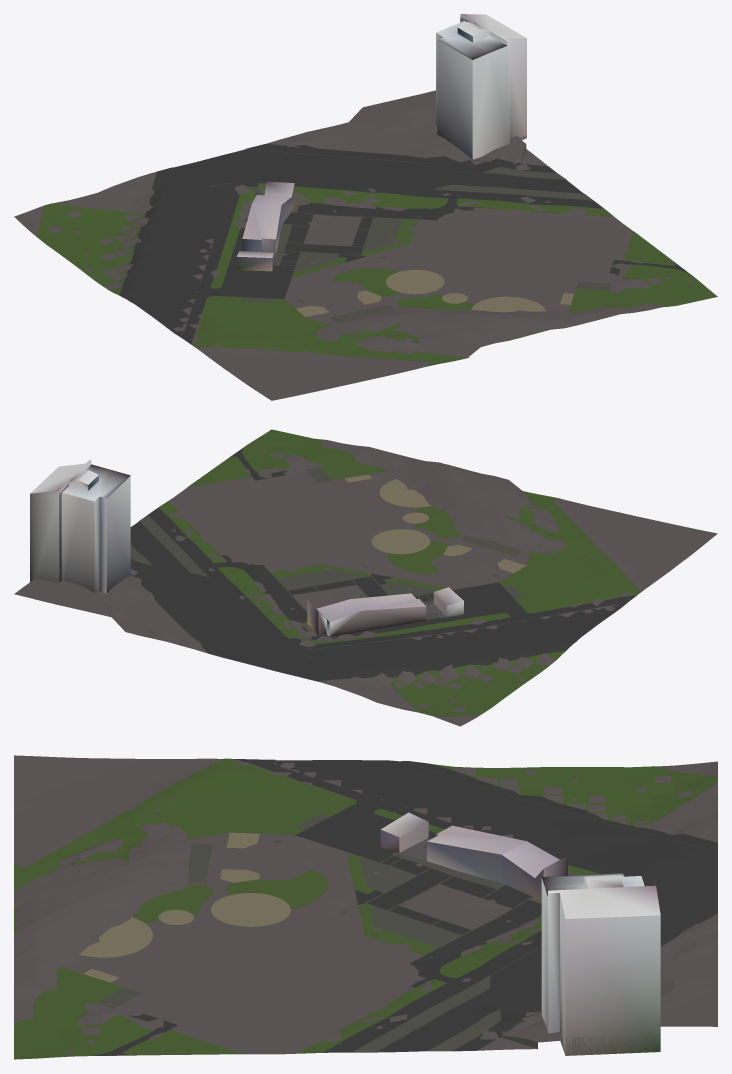
The picture shows the model from 3 angles, top to bottom: view 1: azimuth 30°, elevation 25°; view 2: azimuth 150°, elevation 25°; view 3: azimuth 270°, elevation 25°; orthographic projection. The views are drawn at different scales.
Visible parts, largest first — view 1: c_m04_m12; view 2: c_m04_m12; view 3: c_m04_m12.
Part boxes in pixels (<box>): c_m04_m12: <box>14,14,717,400</box>; c_m04_m12: <box>14,429,717,726</box>; c_m04_m12: <box>14,755,717,1059</box>.
Size of the model in its own units: 131 by 33.91 by 128.
